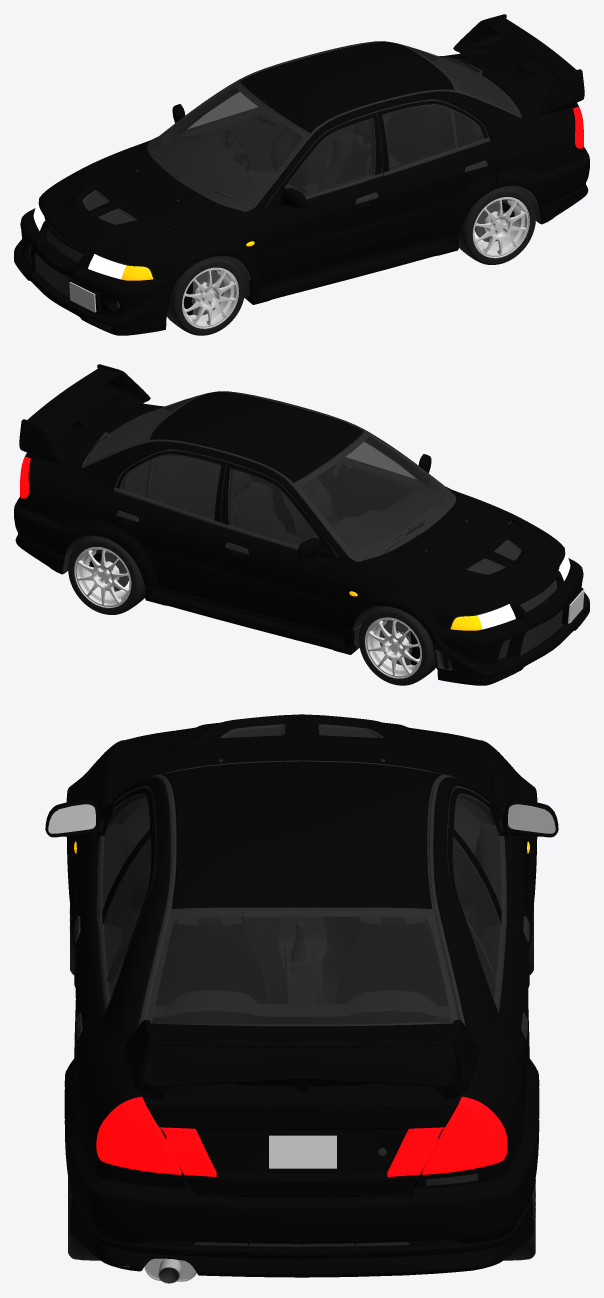
3 views of the same model, one above another, from view 1: azimuth 30°, elevation 25°; view 2: azimuth 150°, elevation 25°; view 3: azimuth 270°, elevation 25° (orthographic). The views are drawn at different scales.
Parts seen in each view (by area): view 1: Mitsubishi Lancer Evolution 6_3, Front Left Wheel_0, Rear_Wheel_2; view 2: Mitsubishi Lancer Evolution 6_3, Front Right Wheel_1, Rear_Wheel_2; view 3: Mitsubishi Lancer Evolution 6_3, Rear_Wheel_2.
Boxes of the visible parts, bbox=[...] form: Mitsubishi Lancer Evolution 6_3: bbox=[14, 14, 589, 335]; Front Left Wheel_0: bbox=[166, 256, 245, 335]; Rear_Wheel_2: bbox=[458, 185, 535, 264]; Mitsubishi Lancer Evolution 6_3: bbox=[14, 364, 589, 685]; Front Right Wheel_1: bbox=[358, 606, 436, 685]; Rear_Wheel_2: bbox=[68, 535, 145, 614]; Mitsubishi Lancer Evolution 6_3: bbox=[45, 714, 558, 1283]; Rear_Wheel_2: bbox=[68, 1177, 535, 1260].
Size of the model in its own units: 1.74 by 0.5666 by 0.7656.
